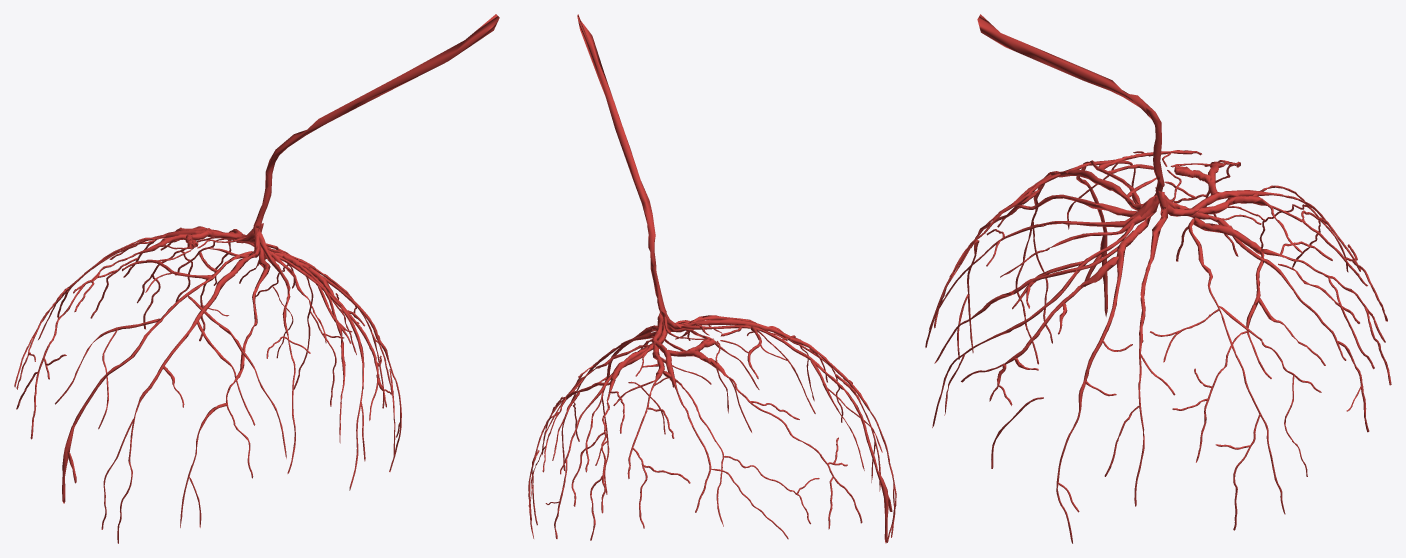
The picture shows the model from 3 angles, left to right: view 1: azimuth 30°, elevation 25°; view 2: azimuth 150°, elevation 25°; view 3: azimuth 270°, elevation 25°; orthographic projection. The views are drawn at different scales.
Visible parts, largest first — view 1: 右侧视网膜中央动脉; view 2: 右侧视网膜中央动脉; view 3: 右侧视网膜中央动脉.
Part boxes in pixels (x1,y1,x2,y2): 右侧视网膜中央动脉: [14, 14, 499, 543]; 右侧视网膜中央动脉: [528, 14, 896, 543]; 右侧视网膜中央动脉: [925, 14, 1391, 543].
Bounding box in the file's own units: 0.043 × 0.0499 × 0.037.
